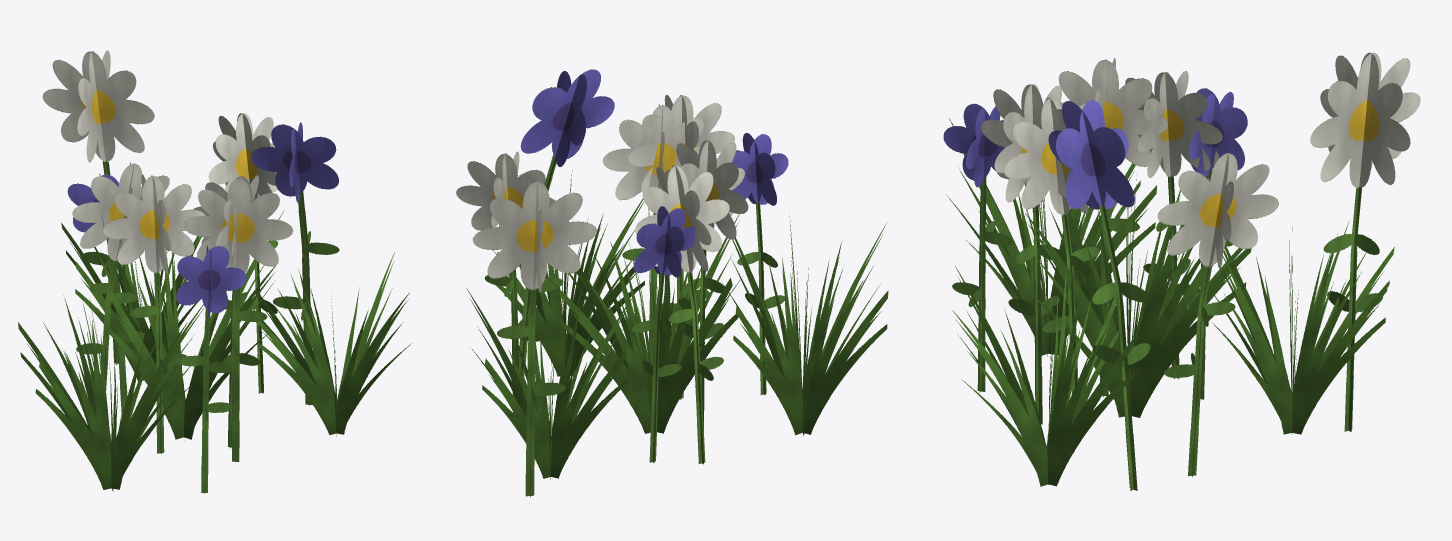
File: SM_Grassland_Wildflower_A.glb
The picture shows the model from 3 angles, left to right: view 1: azimuth 30°, elevation 25°; view 2: azimuth 150°, elevation 25°; view 3: azimuth 270°, elevation 25°; orthographic projection. The views are drawn at different scales.
Parts seen in each view (by area): view 1: SM_Grassland_Wildflower_A; view 2: SM_Grassland_Wildflower_A; view 3: SM_Grassland_Wildflower_A.
Part boxes in pixels (left/top/right/bottom): SM_Grassland_Wildflower_A: left=18, top=50, right=411, bottom=493; SM_Grassland_Wildflower_A: left=456, top=69, right=888, bottom=497; SM_Grassland_Wildflower_A: left=943, top=52, right=1420, bottom=490.
Bounding box in the file's own units: 0.6398 × 0.5317 × 0.6379.
Materials: 3 (3 with a texture image).
